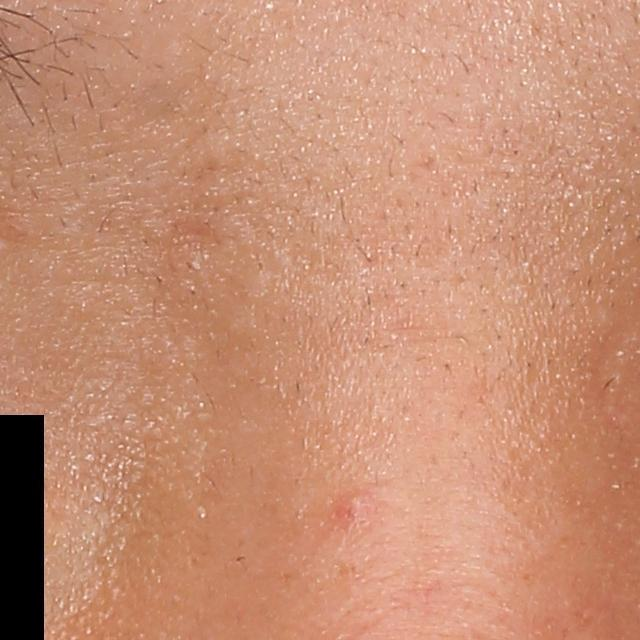papule: (341, 489, 369, 519)
